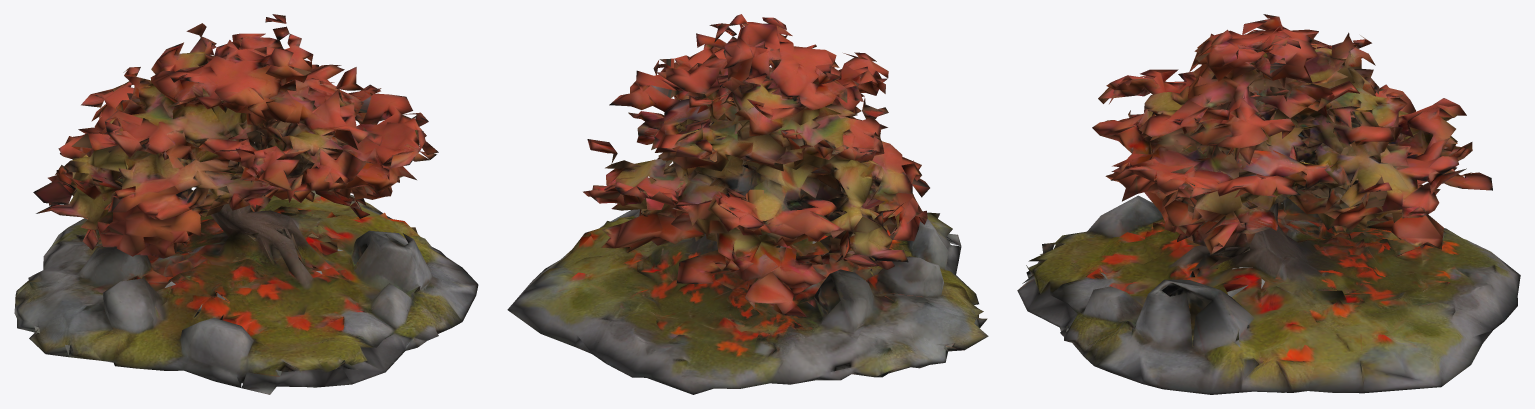
Rendered from tree.glb.
3 renders of one model, left to right at view 1: azimuth 30°, elevation 25°; view 2: azimuth 150°, elevation 25°; view 3: azimuth 270°, elevation 25°, orthographic. The views are drawn at different scales.
Bounding box in the file's own units: 1.95 × 1.34 × 2.
1 material, 1 textured.
